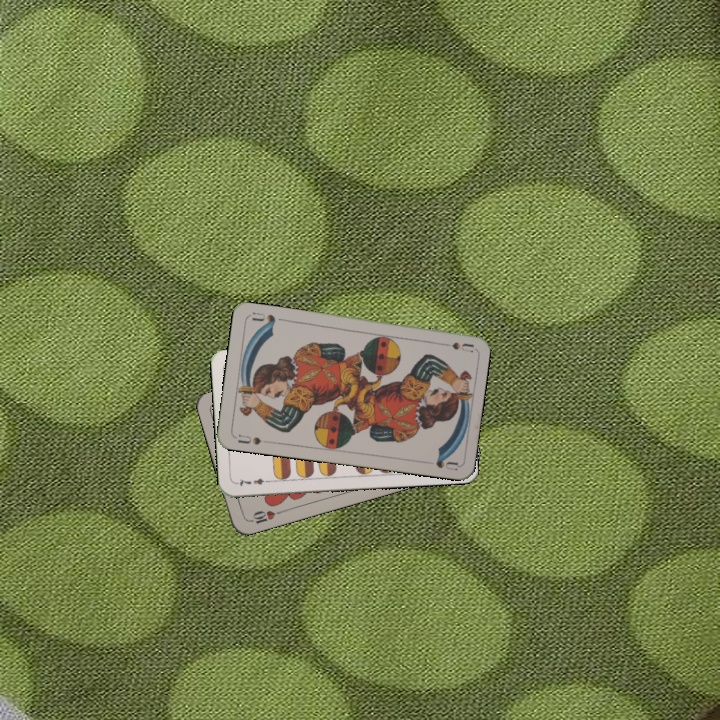E7: (233, 474, 274, 488)
H10: (244, 506, 284, 527)
SU: (434, 338, 475, 355), (234, 430, 272, 447)
